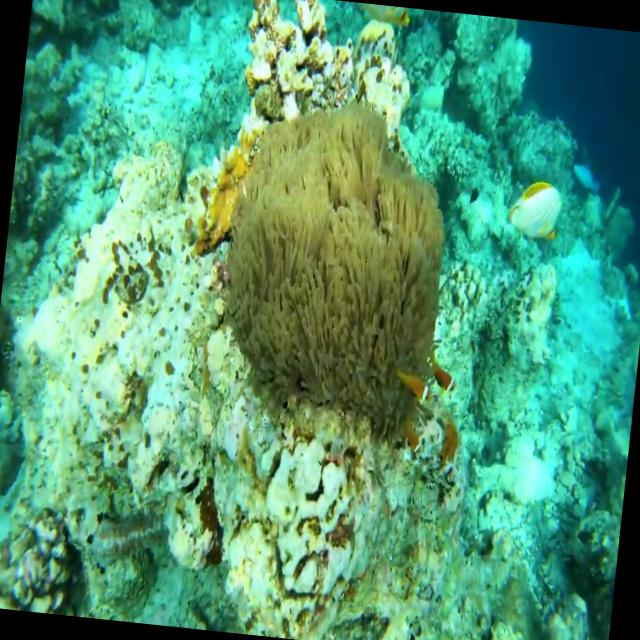fish: (496, 164, 582, 264), (570, 149, 608, 199)
